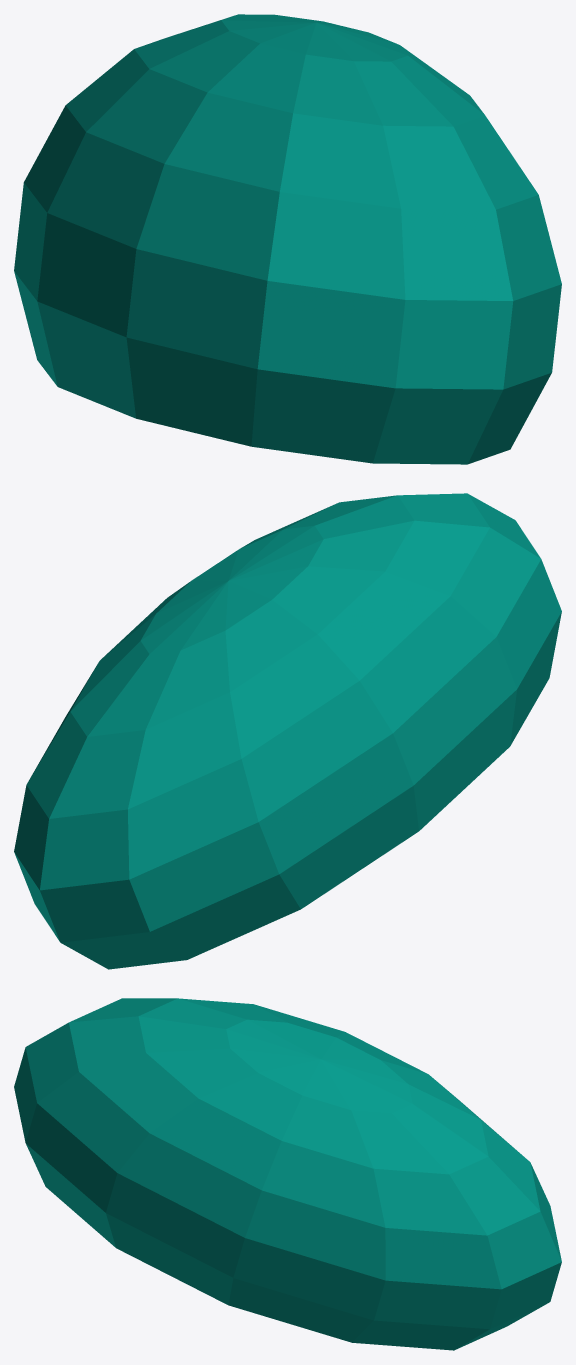
Rendered from n5_n5_group1825502669_lev5.glb.
3 views of the same model, one above another, from view 1: azimuth 30°, elevation 25°; view 2: azimuth 150°, elevation 25°; view 3: azimuth 270°, elevation 25° (orthographic). The views are drawn at different scales.
Parts seen in each view (by area): view 1: n5_n5_group1825502669_lev5; view 2: n5_n5_group1825502669_lev5; view 3: n5_n5_group1825502669_lev5.
Boxes of the visible parts, x1,y1,x2,y2 form: n5_n5_group1825502669_lev5: (14, 14, 561, 464); n5_n5_group1825502669_lev5: (14, 493, 561, 969); n5_n5_group1825502669_lev5: (14, 998, 561, 1350).
Bounding box in the file's own units: 1.12 × 1.05 × 1.84.
